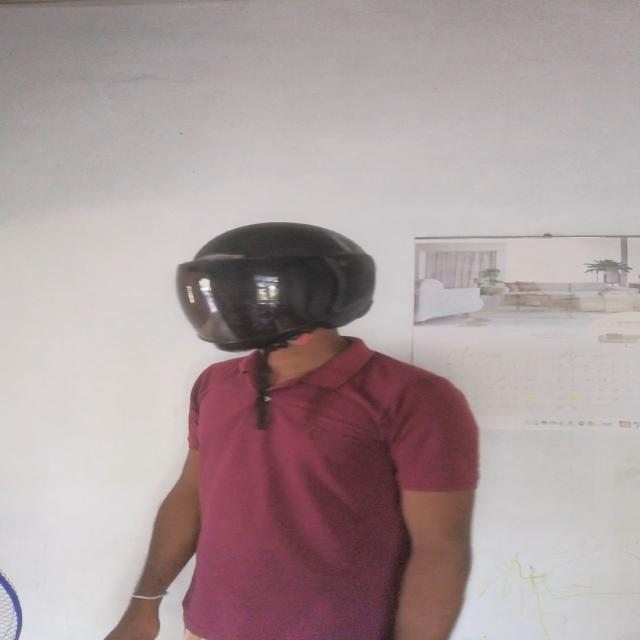Helmet_Wearer: (154, 220, 402, 374)
